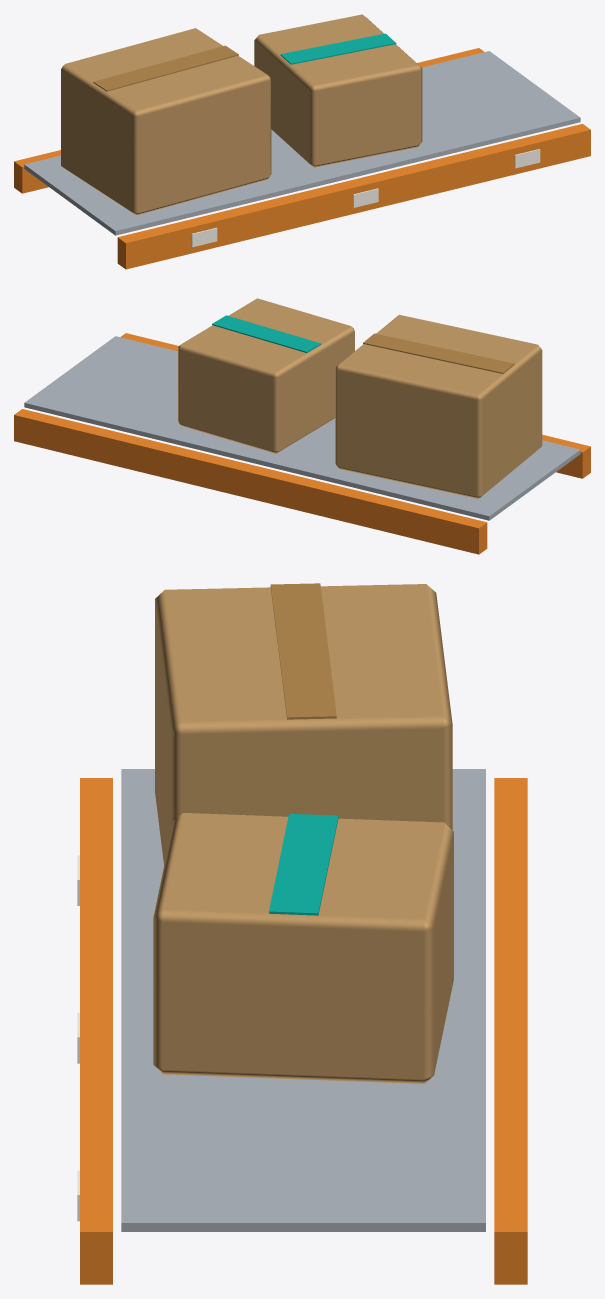
File: station_buffer_ausstattung_1_0.glb
3 renders of one model, top to bottom at view 1: azimuth 30°, elevation 25°; view 2: azimuth 150°, elevation 25°; view 3: azimuth 270°, elevation 25°, orthographic. The views are drawn at different scales.
Visible parts, largest first — view 1: station_buffer_ausstattung_1_0; view 2: station_buffer_ausstattung_1_0; view 3: station_buffer_ausstattung_1_0.
Boxes of the visible parts, left/top/right/bottom form: station_buffer_ausstattung_1_0: left=14, top=14, right=590, bottom=269; station_buffer_ausstattung_1_0: left=14, top=298, right=590, bottom=554; station_buffer_ausstattung_1_0: left=77, top=583, right=527, bottom=1284.
Bounding box in the file's own units: 1.3 × 0.365 × 0.543.
